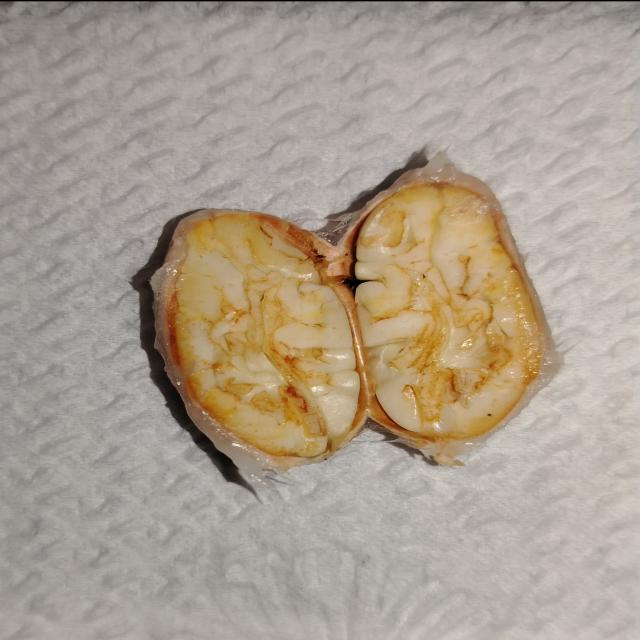Criollo: (147, 205, 366, 462), (360, 173, 530, 447)
